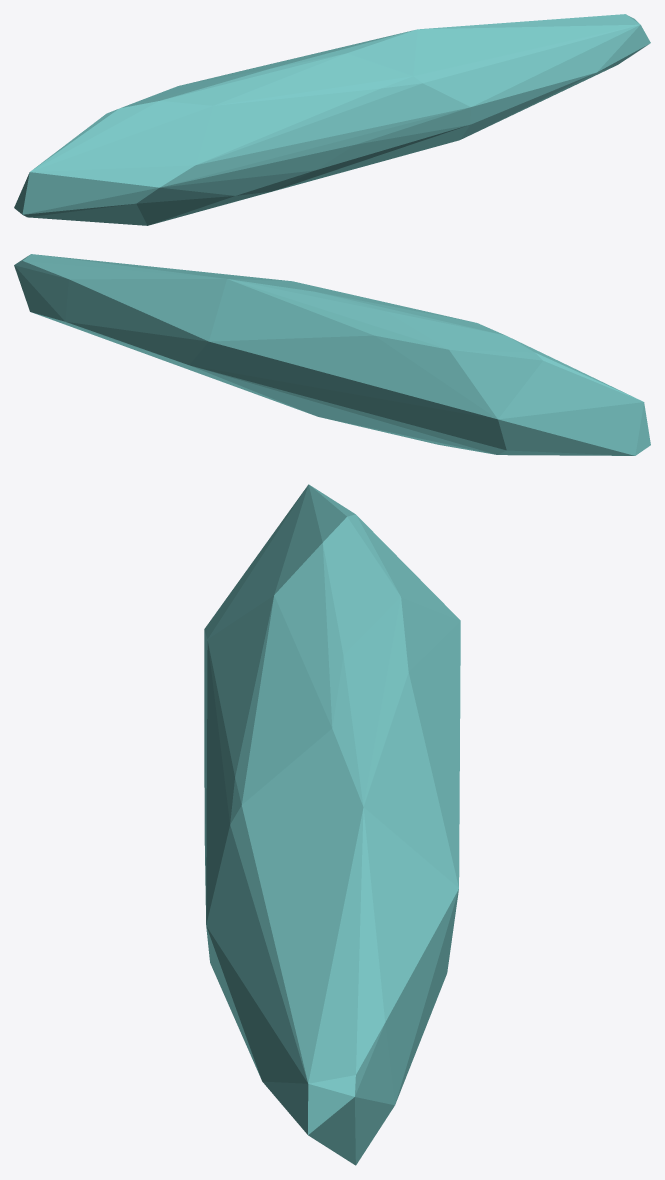
File: suspension_shock_absorber_b01.glb
The picture shows the model from 3 angles, top to bottom: view 1: azimuth 30°, elevation 25°; view 2: azimuth 150°, elevation 25°; view 3: azimuth 270°, elevation 25°; orthographic projection. The views are drawn at different scales.
Visible parts, largest first — view 1: geometry_0; view 2: geometry_0; view 3: geometry_0.
Boxes of the visible parts, <box> form: geometry_0: <box>14,14,650,225</box>; geometry_0: <box>14,254,650,455</box>; geometry_0: <box>204,484,460,1165</box>.
Size of the model in its own units: 0.4729 by 0.0829 by 0.0836.
